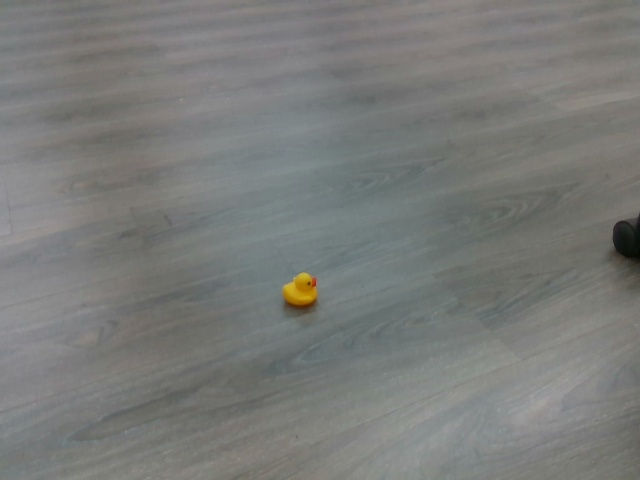duck: (281, 271, 320, 307)
